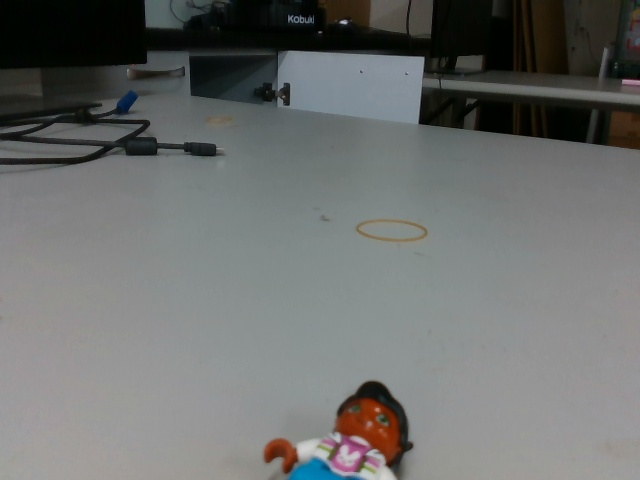people: (254, 378, 420, 480)
